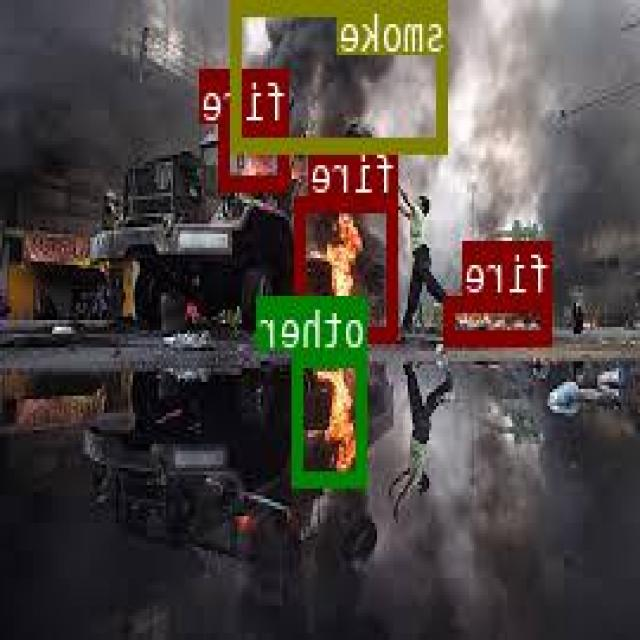fire: (297, 194, 400, 338), (446, 294, 554, 344), (221, 124, 291, 186)
other: (296, 350, 368, 484)
smoke: (235, 0, 450, 148)
